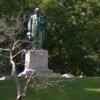Statue: (18, 7, 60, 59)
